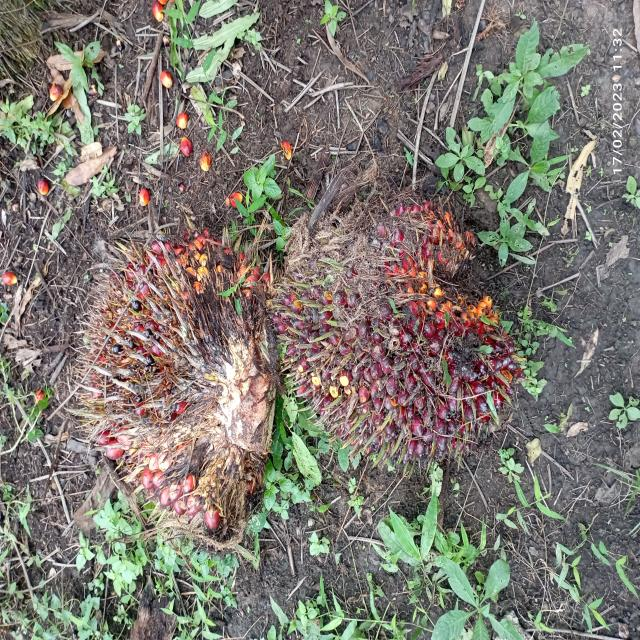fraksi 3: (255, 178, 543, 488), (54, 219, 282, 547)
